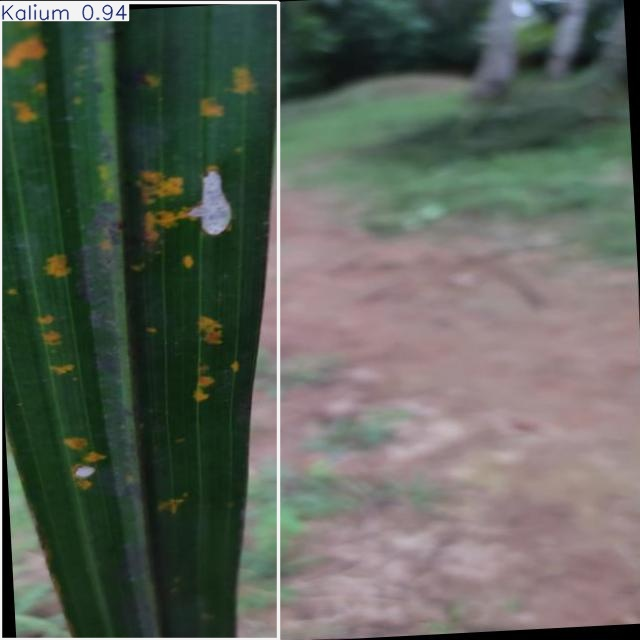Kalium: (0, 2, 279, 639)
